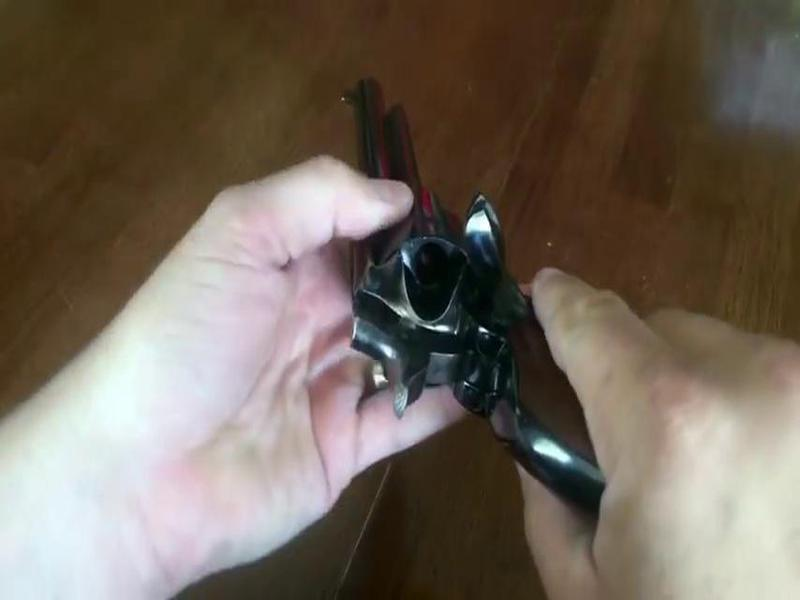Revolver: (321, 81, 608, 491)
